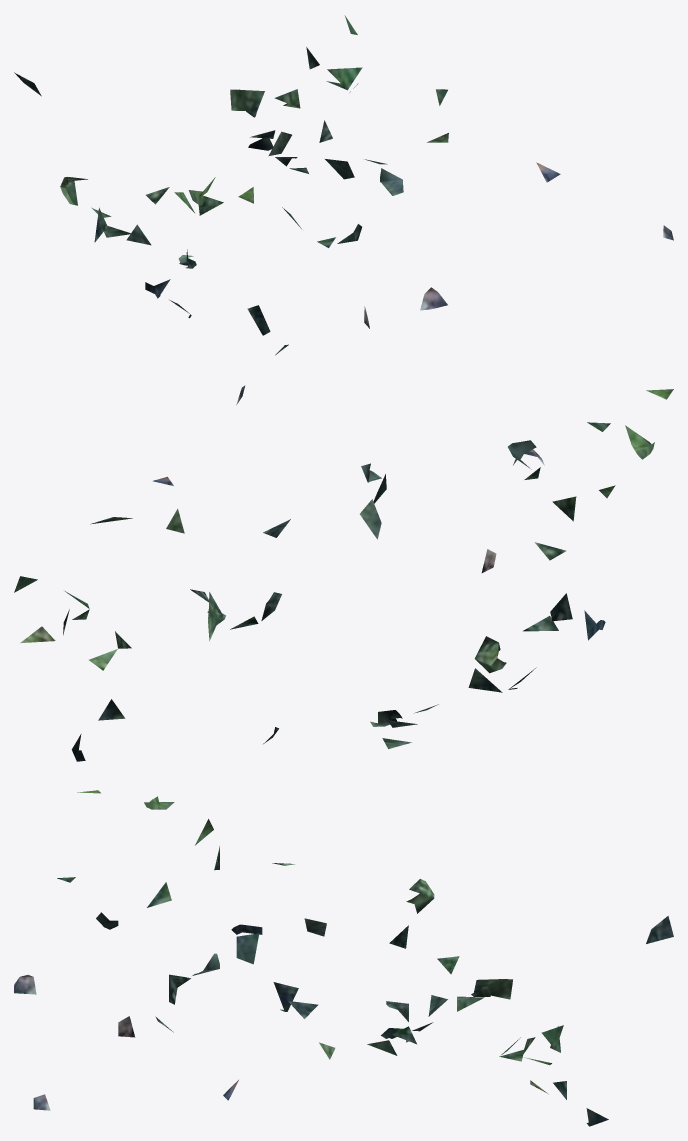
The picture shows the model from 3 angles, top to bottom: view 1: azimuth 30°, elevation 25°; view 2: azimuth 150°, elevation 25°; view 3: azimuth 270°, elevation 25°; orthographic projection. The views are drawn at different scales.
Parts seen in each view (by area): view 1: 30436272704361637415_1; view 2: 30436272704361637415_1; view 3: 30436272704361637415_1.
Boxes of the visible parts, x1,y1,x2,y2 form: 30436272704361637415_1: [14, 15, 673, 355]; 30436272704361637415_1: [14, 385, 673, 761]; 30436272704361637415_1: [14, 790, 673, 1126].
Bounding box in the file's own units: 26.54 × 12.33 × 36.1.
Materials: 1 (1 with a texture image).
